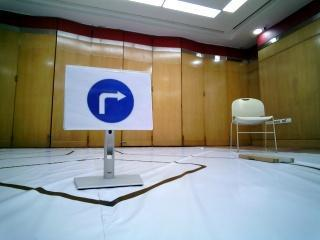right: (66, 67, 151, 128)
